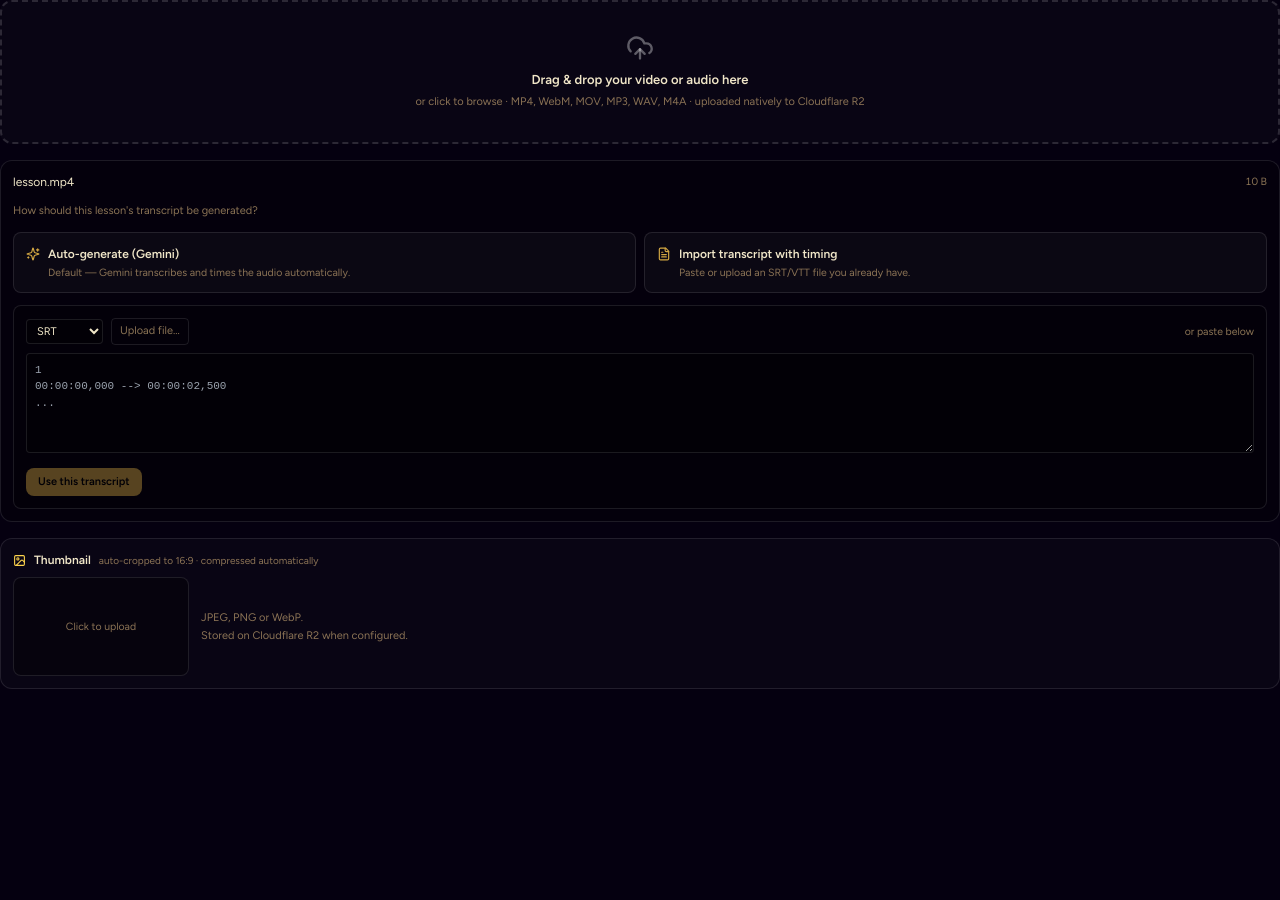
Test: the submit button is disabled until there is real content to import
Earlier steps of the test are not shown.
Expected: the element with test id "transcript-choice" is shown, [13, 199, 1267, 509]
Expected: the button with test id "transcript-import-submit" is disabled, [26, 468, 142, 496]
Type "some text" into the text box with test id "transcript-import-textarea". click: (640, 403)
box: [26, 353, 1254, 453]
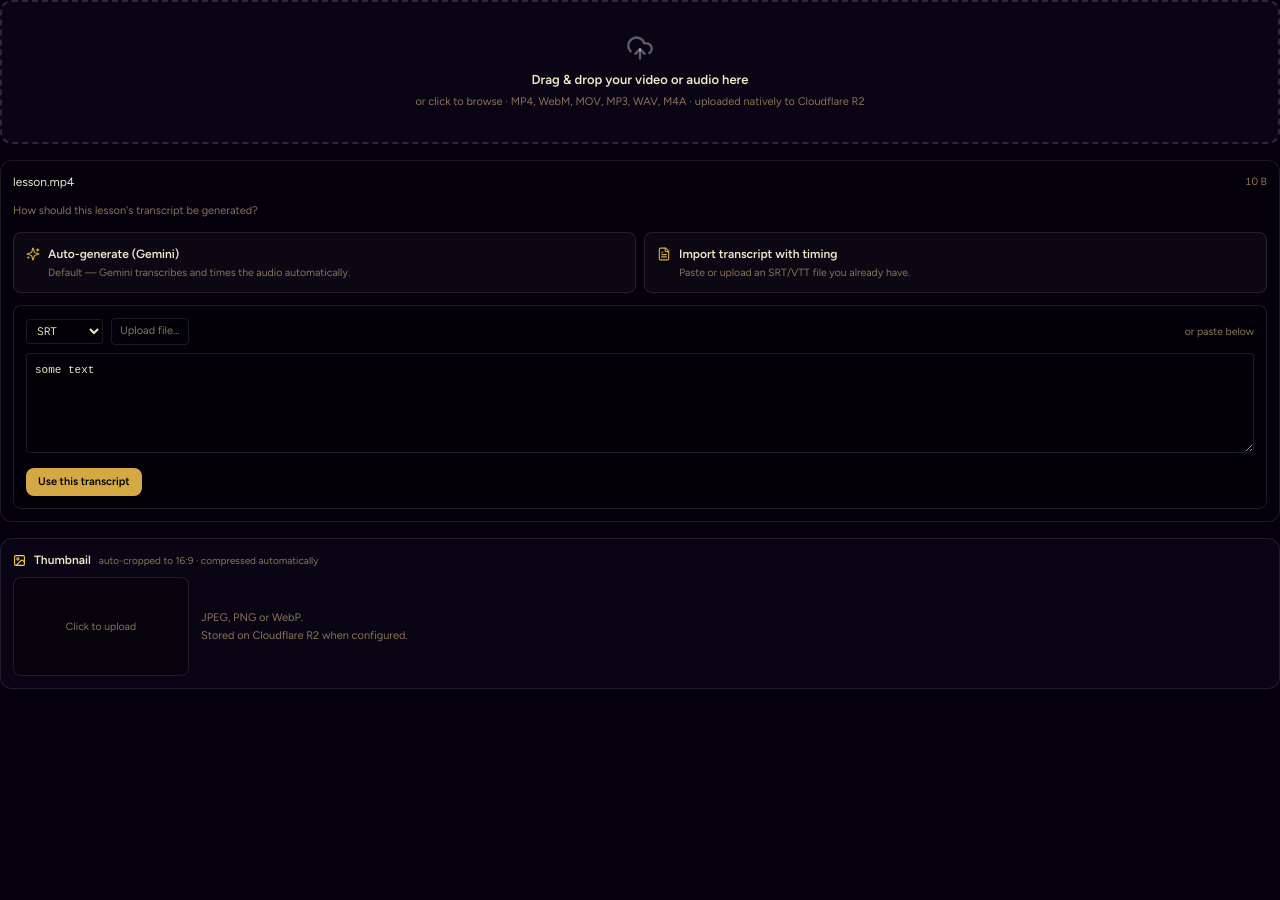
Expected: the button with test id "transcript-import-submit" is enabled, [26, 468, 142, 496]
